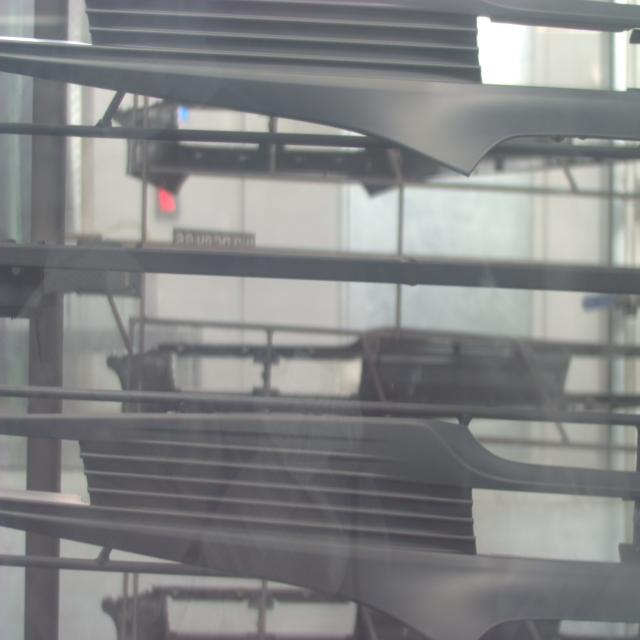Primered: (2, 401, 640, 640), (0, 0, 639, 181)
